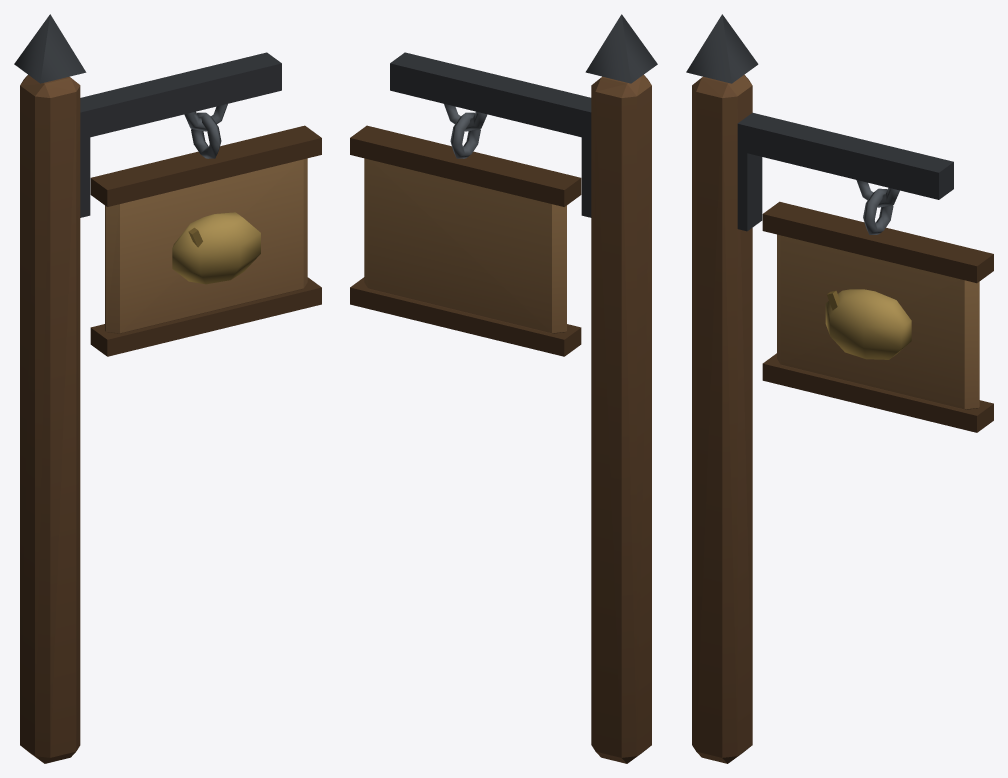
The model's file is shop-hanging-sign-01.glb.
3 renders of one model, left to right at view 1: azimuth 30°, elevation 25°; view 2: azimuth 150°, elevation 25°; view 3: azimuth 330°, elevation 25°, orthographic.
Visible parts, largest first — view 1: shop_hanging_sign_01; view 2: shop_hanging_sign_01; view 3: shop_hanging_sign_01.
Boxes of the visible parts, x1=… form: shop_hanging_sign_01: x1=14, y1=14, x2=321, y2=763; shop_hanging_sign_01: x1=350, y1=14, x2=657, y2=763; shop_hanging_sign_01: x1=686, y1=14, x2=993, y2=763.
Size of the model in its own units: 0.749 by 1.85 by 0.1691.
